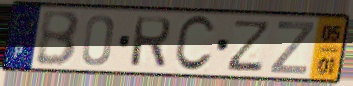0: (80, 13, 117, 68)
B: (34, 10, 82, 69)
C: (171, 14, 217, 75)
R: (128, 15, 174, 70)
Z: (267, 20, 317, 77), (224, 18, 274, 73)
